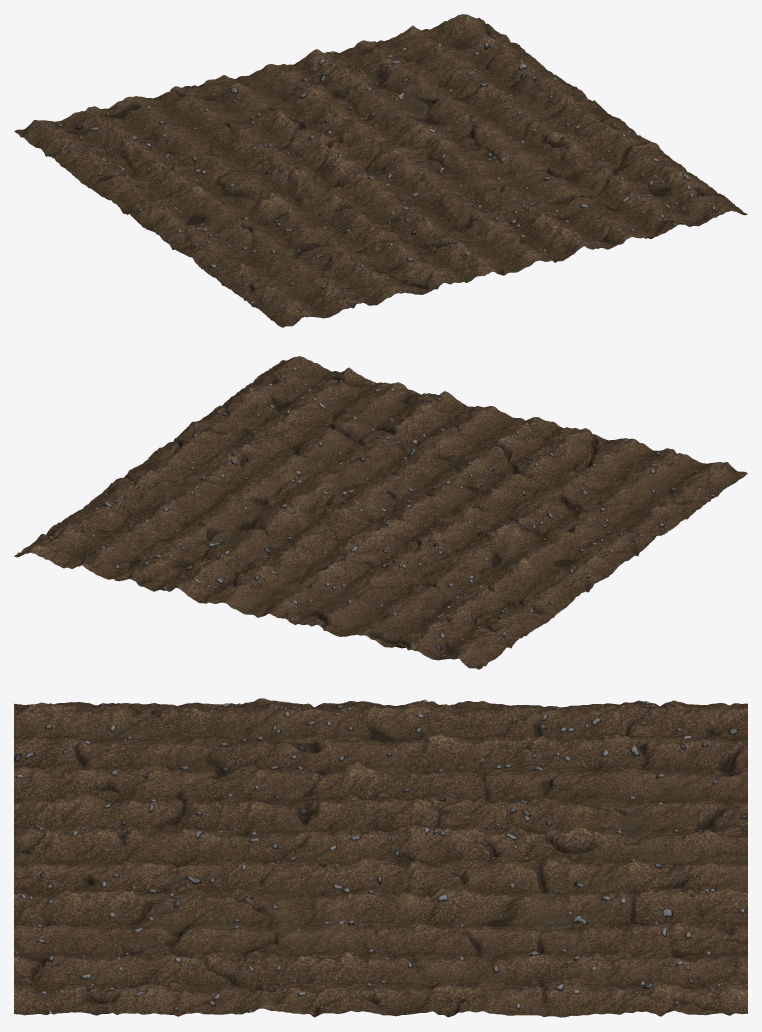
File: field_streaks.glb
The picture shows the model from 3 angles, top to bottom: view 1: azimuth 30°, elevation 25°; view 2: azimuth 150°, elevation 25°; view 3: azimuth 270°, elevation 25°; orthographic projection. The views are drawn at different scales.
Parts seen in each view (by area): view 1: DirtMesh; view 2: DirtMesh; view 3: DirtMesh.
Boxes of the visible parts, box(x1,y1,x2,y2) form: DirtMesh: box(14, 14, 747, 327); DirtMesh: box(14, 356, 747, 669); DirtMesh: box(14, 698, 747, 1017).
Bounding box in the file's own units: 1 × 0.0287 × 1.
1 material, 1 textured.
